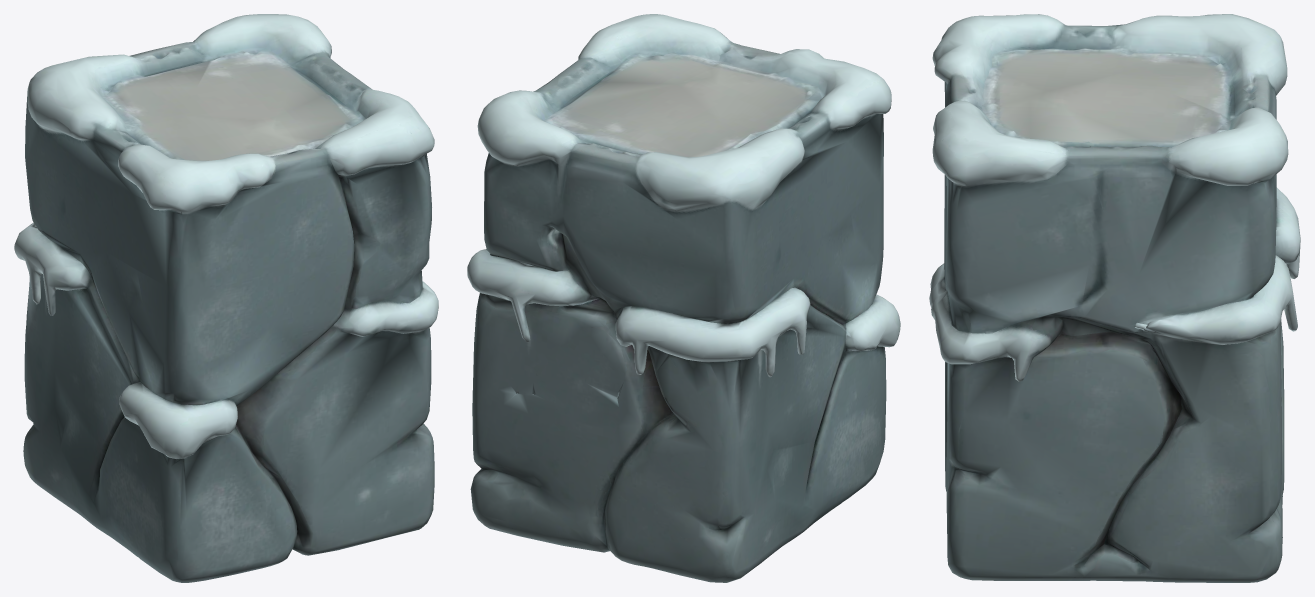
The picture shows the model from 3 angles, left to right: view 1: azimuth 30°, elevation 25°; view 2: azimuth 150°, elevation 25°; view 3: azimuth 270°, elevation 25°; orthographic projection. The views are drawn at different scales.
Parts seen in each view (by area): view 1: world; view 2: world; view 3: world.
Boxes of the visible parts, x1=… form: world: x1=14, y1=14, x2=438, y2=582; world: x1=467, y1=14, x2=900, y2=582; world: x1=929, y1=14, x2=1300, y2=582.
Size of the model in its own units: 0.7598 by 1 by 0.7593.
1 material, 1 textured.
